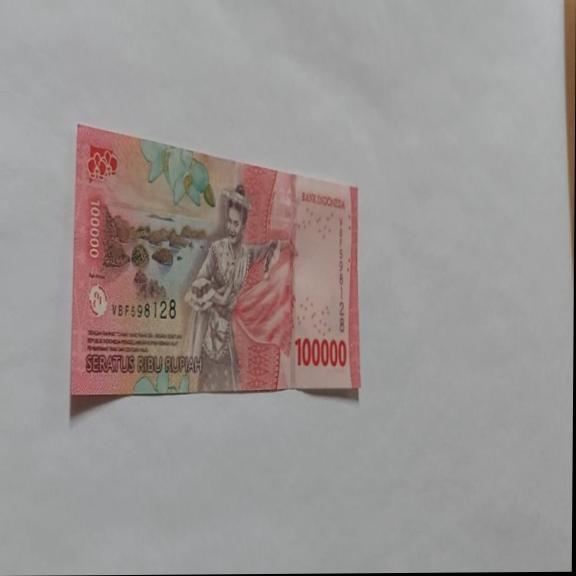Kertas: (70, 120, 362, 402), (294, 334, 348, 369)
